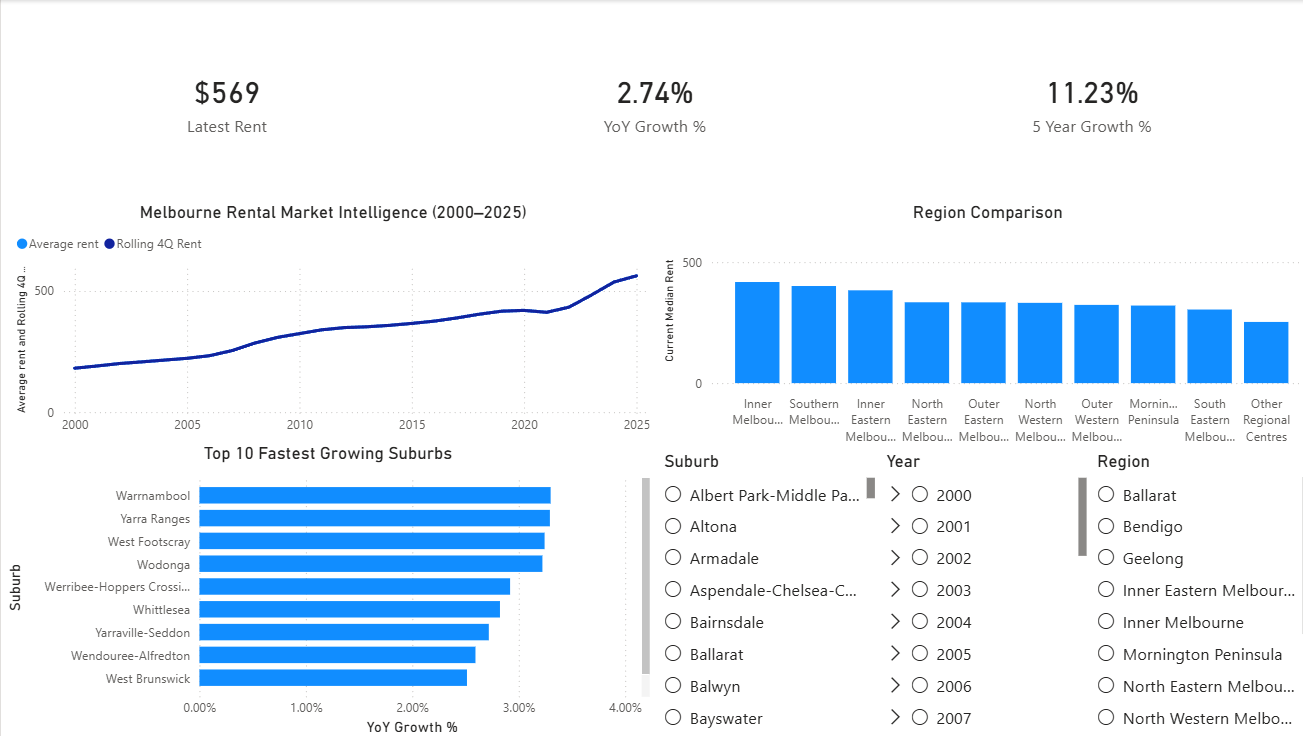

What the dashboard file says about the page in this screenshot:
{"tool":"powerbi","page":{"name":"Page 1","canvas":[1280,720],"ordinal":0},"visuals":[{"type":"card","fields":{"Values":["All properties (2).Latest Rent"]},"box":[9.7,0,420.2,196.5],"z":0},{"type":"card","fields":{"Values":["All properties (2).YoY Growth %"]},"box":[429.9,0,412.4,196.5],"z":1000},{"type":"card","fields":{"Values":["All properties (2).5 Year Growth %"]},"box":[842.3,0,437.7,196.5],"z":2000},{"type":"lineChart","title":"Melbourne Rental Market Intelligence (2000–2025)","fields":{"Category":["All properties (2).Date.Variation.Date Hierarchy.Year","All properties (2).Date.Variation.Date Hierarchy.Quarter","All properties (2).Date.Variation.Date Hierarchy.Month","All properties (2).Date.Variation.Date Hierarchy.Day"],"Y":["Avg(All properties (2).Median Rent)","All properties (2).Rolling 4Q Rent"]},"box":[9.7,196.5,626.4,234.4],"z":3000},{"type":"barChart","title":"Top 10  Fastest Growing Suburbs","fields":{"Category":["All properties (2).Suburb"],"Y":["All properties (2).YoY Growth %"]},"box":[0,430.9,636.1,288.9],"z":4000},{"type":"clusteredColumnChart","title":"Region Comparison","fields":{"Category":["All properties (2).Region"],"Y":["All properties (2).Current Median Rent"]},"box":[640,196.5,640,243.2],"z":5000},{"type":"listSlicer","fields":{"Values":["All properties (2).Suburb"]},"box":[640,438.7,215.9,281.1],"z":6000},{"type":"listSlicer","fields":{"Values":["All properties (2).Date.Variation.Date Hierarchy.Year","All properties (2).Date.Variation.Date Hierarchy.Quarter","All properties (2).Date.Variation.Date Hierarchy.Month","All properties (2).Date.Variation.Date Hierarchy.Day"]},"box":[855.9,438.7,205.2,281.1],"z":7000},{"type":"listSlicer","fields":{"Values":["All properties (2).Region"]},"box":[1061.2,438.7,218.8,281.1],"z":8000}]}

Visuals, with their boxes in screenshot pixels (x1, y1, x2, y2), scaled from the page's 1280x720 canvas onto the 1303x736 screenshot:
card - All properties (2).Latest Rent: <region>10, 0, 438, 201</region>
card - All properties (2).YoY Growth %: <region>438, 0, 857, 201</region>
card - All properties (2).5 Year Growth %: <region>857, 0, 1302, 201</region>
"Melbourne Rental Market Intelligence (2000–2025)" lineChart: <region>10, 201, 648, 440</region>
"Top 10  Fastest Growing Suburbs" barChart: <region>0, 440, 648, 735</region>
"Region Comparison" clusteredColumnChart: <region>652, 201, 1302, 449</region>
listSlicer - All properties (2).Suburb: <region>652, 448, 871, 735</region>
listSlicer - All properties (2).Date.Variation.Date Hierarchy.Year x All properties (2).Date.Variation.Date Hierarchy.Quarter: <region>871, 448, 1080, 735</region>
listSlicer - All properties (2).Region: <region>1080, 448, 1302, 735</region>
